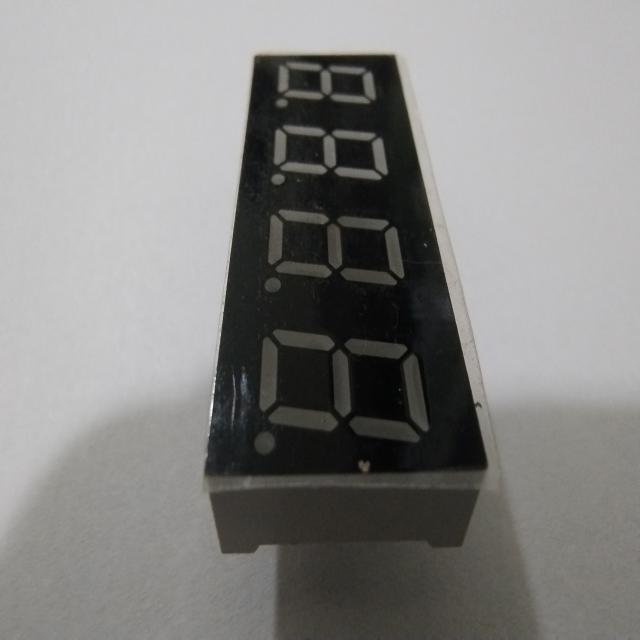7_segments_4_digits: (195, 44, 500, 576)
